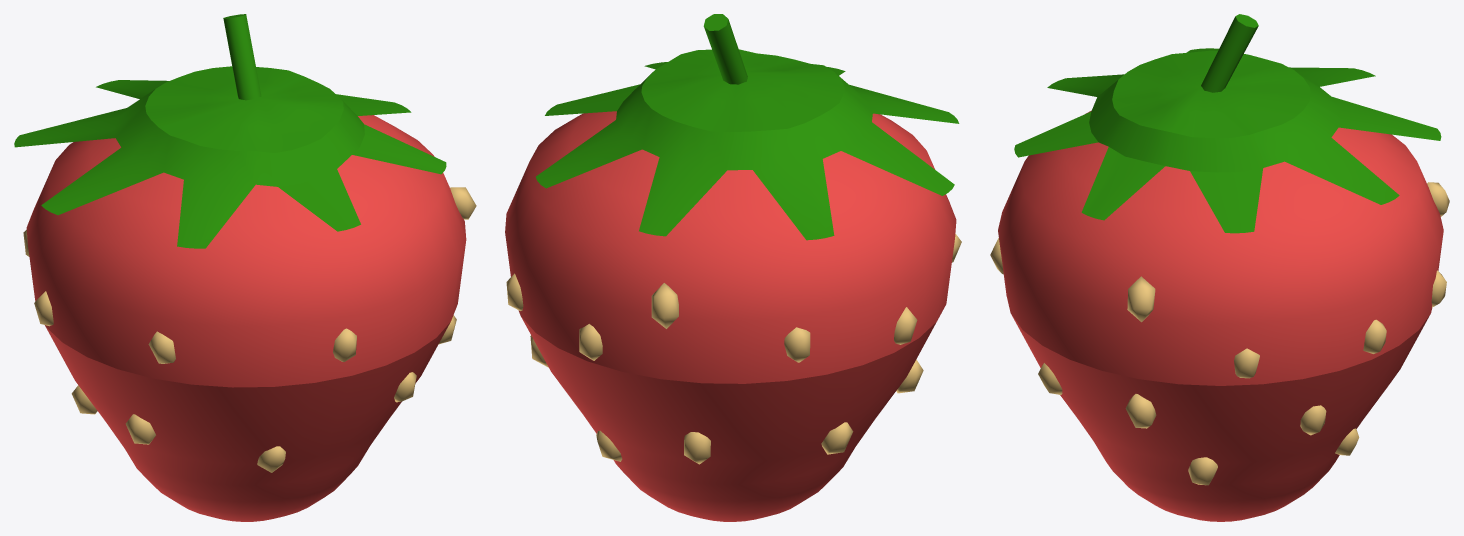
File: Fruit_Strawberry_Sliced.fbx
3 renders of one model, left to right at view 1: azimuth 30°, elevation 25°; view 2: azimuth 150°, elevation 25°; view 3: azimuth 270°, elevation 25°, orthographic. The views are drawn at different scales.
Parts seen in each view (by area): view 1: Strawberry_Top, Strawberry_Bottom; view 2: Strawberry_Top, Strawberry_Bottom; view 3: Strawberry_Top, Strawberry_Bottom.
Part boxes in pixels (left/top/right/bottom): Strawberry_Top: left=14, top=14, right=476, bottom=387; Strawberry_Bottom: left=46, top=315, right=456, bottom=521; Strawberry_Top: left=505, top=14, right=961, bottom=383; Strawberry_Bottom: left=521, top=313, right=941, bottom=521; Strawberry_Top: left=990, top=14, right=1449, bottom=385; Strawberry_Bottom: left=1012, top=314, right=1430, bottom=521.
Size of the model in its own units: 122 by 142 by 120.
